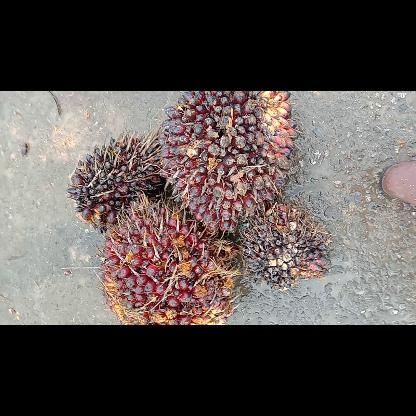Kurang masak: (160, 91, 296, 235)
TBS abnormal: (69, 136, 164, 228), (241, 204, 331, 284)
TBS masak: (101, 196, 237, 324)
